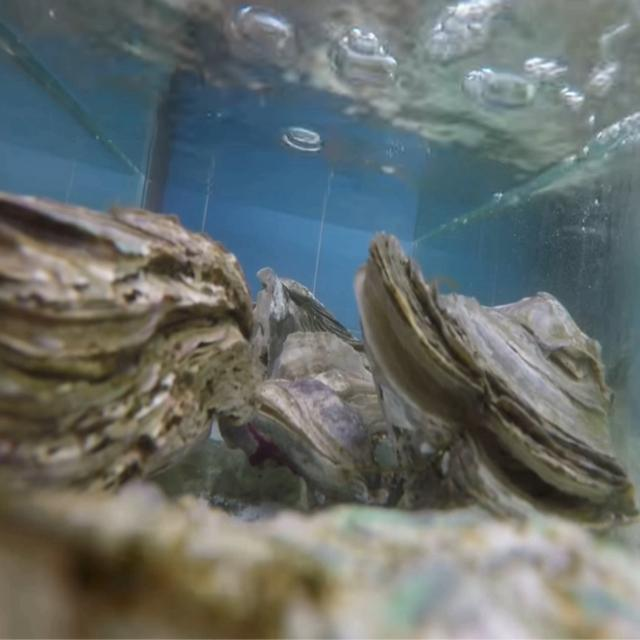Oyster-Closed: (0, 190, 253, 512), (251, 333, 405, 507)
Oyster-Indeterminate: (0, 481, 640, 640)
Oyster-Open: (356, 230, 640, 534)
